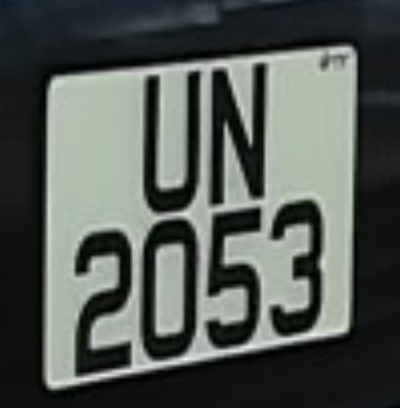0: (136, 212, 205, 363)
2: (62, 218, 142, 385)
3: (262, 192, 340, 345)
5: (200, 203, 271, 359)
N: (201, 55, 276, 211)
U: (128, 64, 209, 219)
